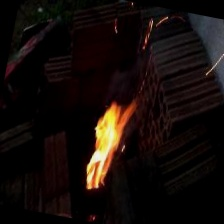fire: (72, 87, 145, 208)
